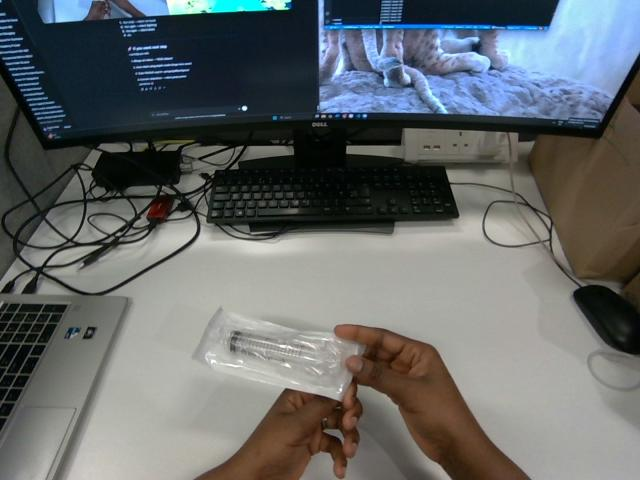syringe: (193, 308, 363, 399)
